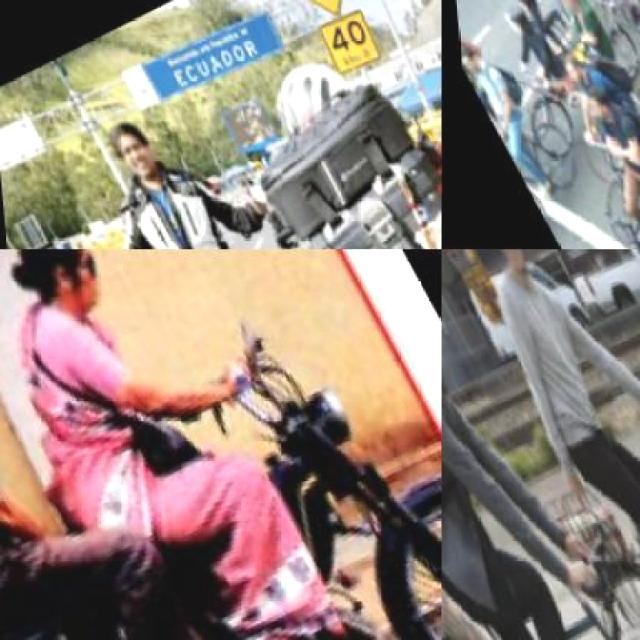With Helmet: (449, 249, 538, 291), (495, 0, 529, 38), (630, 24, 638, 82)
Without Helmet: (0, 249, 120, 345), (86, 104, 169, 198), (566, 80, 614, 129), (544, 0, 584, 20)
